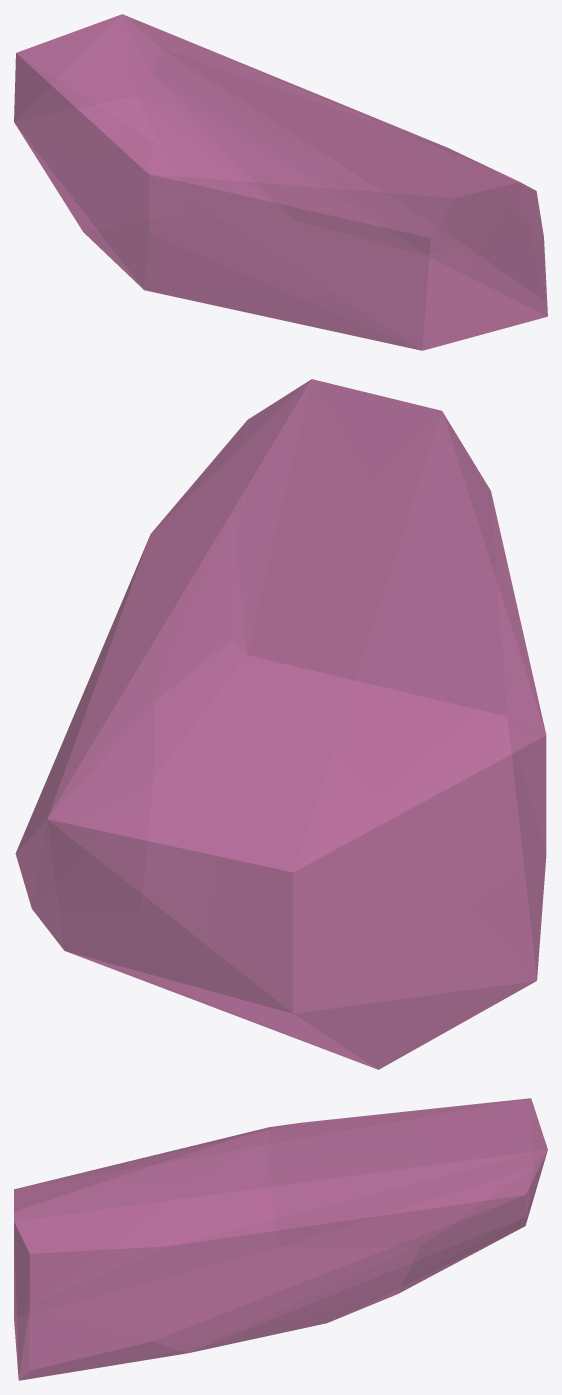
3 views of the same model, one above another, from view 1: azimuth 30°, elevation 25°; view 2: azimuth 150°, elevation 25°; view 3: azimuth 270°, elevation 25° (orthographic). The views are drawn at different scales.
Visible parts, largest first — view 1: Shape_IndexedFaceSet.007_Shape_IndexedFaceSet.20384; view 2: Shape_IndexedFaceSet.007_Shape_IndexedFaceSet.20384; view 3: Shape_IndexedFaceSet.007_Shape_IndexedFaceSet.20384.
Boxes of the visible parts, x1,y1,x2,y2 form: Shape_IndexedFaceSet.007_Shape_IndexedFaceSet.20384: (14,14,547,350); Shape_IndexedFaceSet.007_Shape_IndexedFaceSet.20384: (15,379,546,1069); Shape_IndexedFaceSet.007_Shape_IndexedFaceSet.20384: (14,1098,547,1380).
Size of the model in its own units: 0.2638 by 0.1357 by 0.431.
